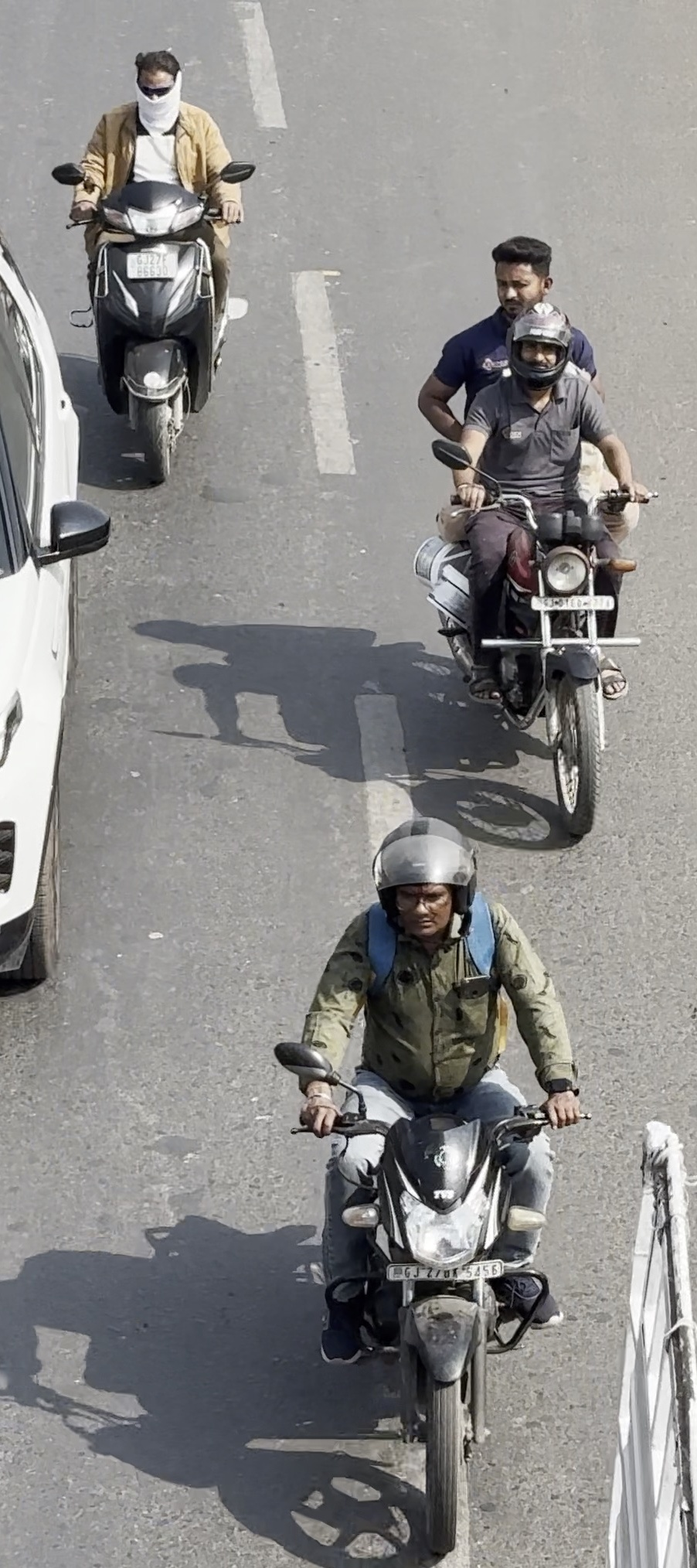BikeWithRider: (263, 806, 599, 1565), (402, 227, 665, 850), (41, 38, 266, 493)
Helmet: (356, 806, 491, 960), (495, 299, 586, 394)
NoHelmet: (472, 227, 571, 329), (122, 40, 192, 119)
